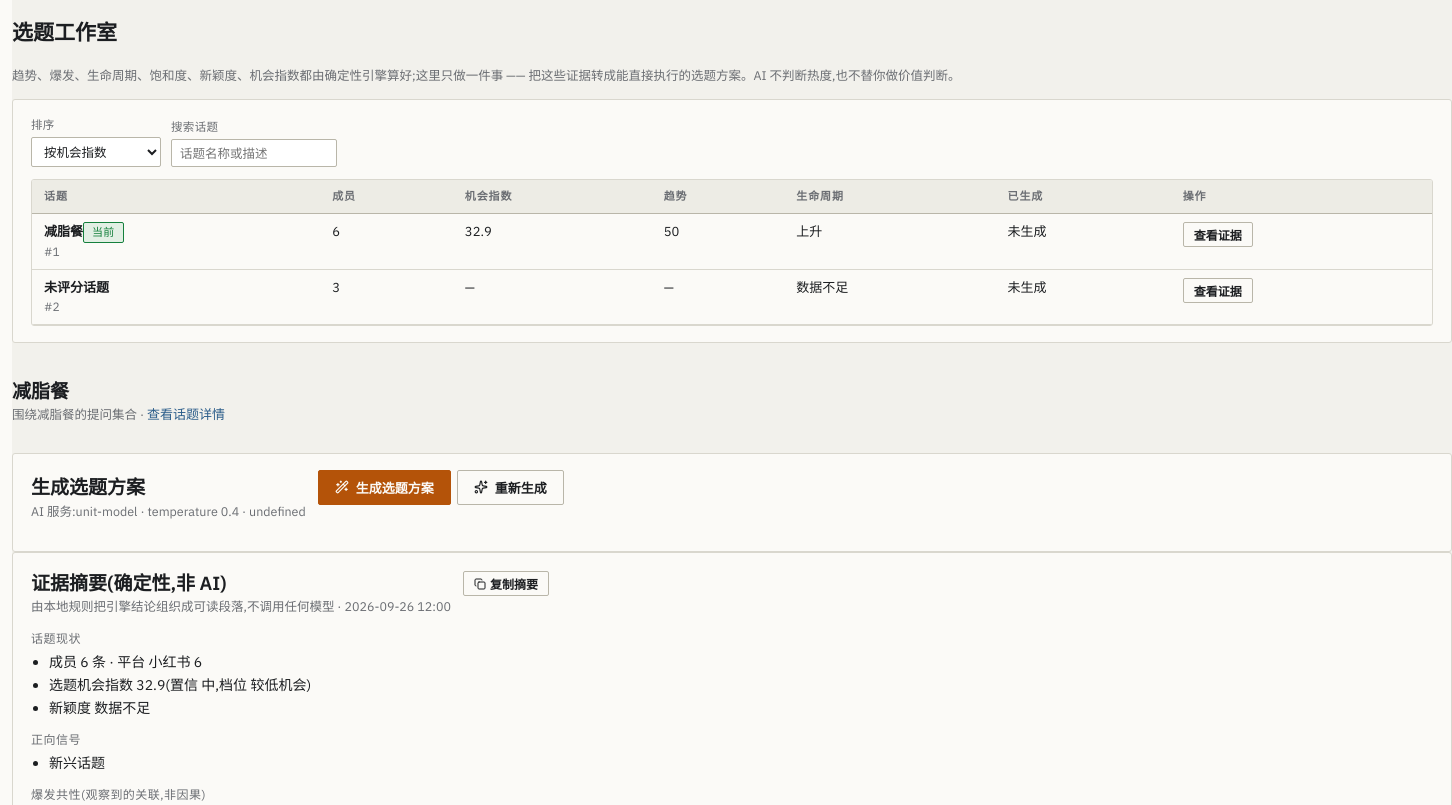
Test case: 选题工作室:生成与人工状态 › 生成失败显示错误与原因,不伪装成没有数据
Step 1. Click the button "生成选题方案" → x=384, y=487, box [318,470,451,505]
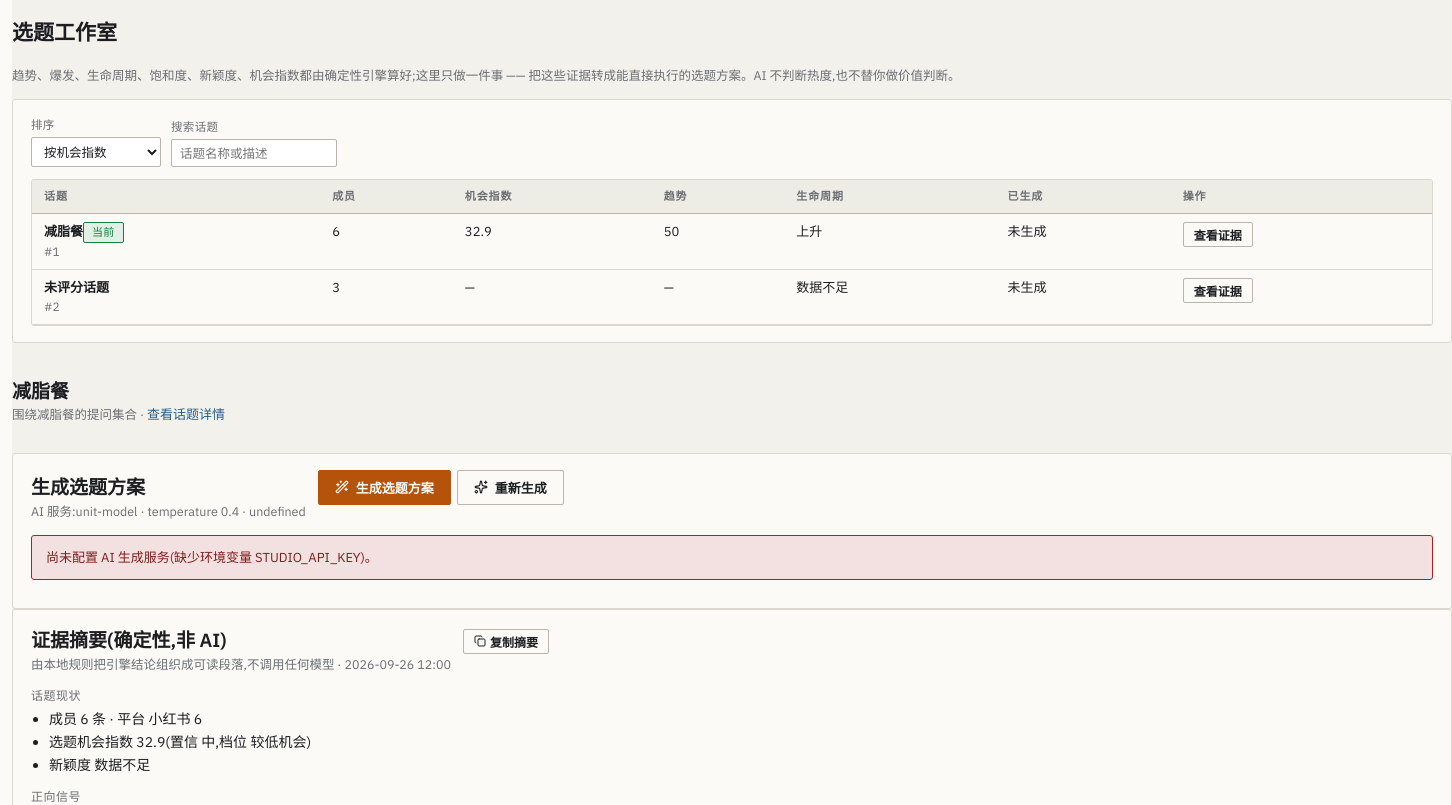
Now the text "尚未配置 AI 生成服务" is shown, box [46,549,378,566]
Now the message "尚未配置 AI 生成服务(缺少环境变量 STUDIO_API_KEY)。" is shown, box [31,535,1433,580]
